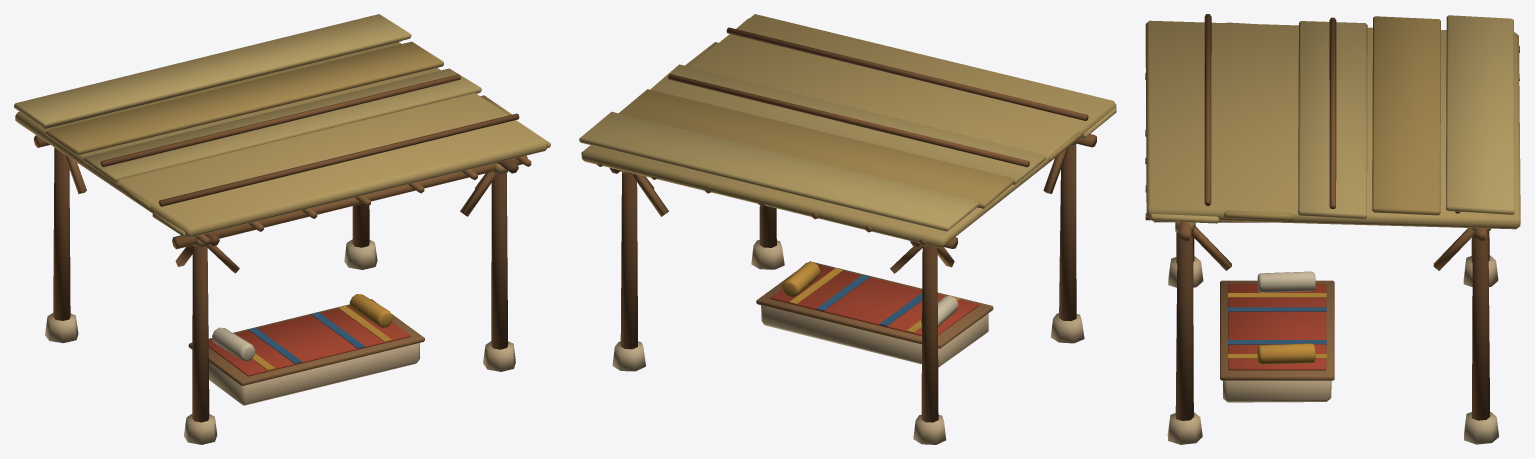
Rendered from oasis_arish.glb.
3 renders of one model, left to right at view 1: azimuth 30°, elevation 25°; view 2: azimuth 150°, elevation 25°; view 3: azimuth 270°, elevation 25°, orthographic. The views are drawn at different scales.
Visible parts, largest first — view 1: oasis_arish; view 2: oasis_arish; view 3: oasis_arish.
Part boxes in pixels (x1,y1,x2,y2): oasis_arish: [14, 14, 550, 444]; oasis_arish: [579, 14, 1116, 444]; oasis_arish: [1145, 14, 1520, 444].
Size of what is drawn, in the model's own units: 4.96 by 3.01 by 4.07.
